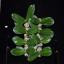leaf: (39, 16, 54, 27), (26, 3, 35, 21), (27, 50, 39, 62), (14, 23, 27, 34), (11, 13, 26, 22), (40, 47, 52, 57), (12, 38, 26, 46), (27, 25, 39, 34), (12, 27, 26, 34), (39, 28, 53, 35), (11, 49, 26, 55), (31, 35, 41, 43), (41, 36, 52, 43), (27, 48, 36, 56), (26, 39, 36, 46), (31, 17, 40, 24), (40, 17, 48, 23), (20, 18, 26, 23)
